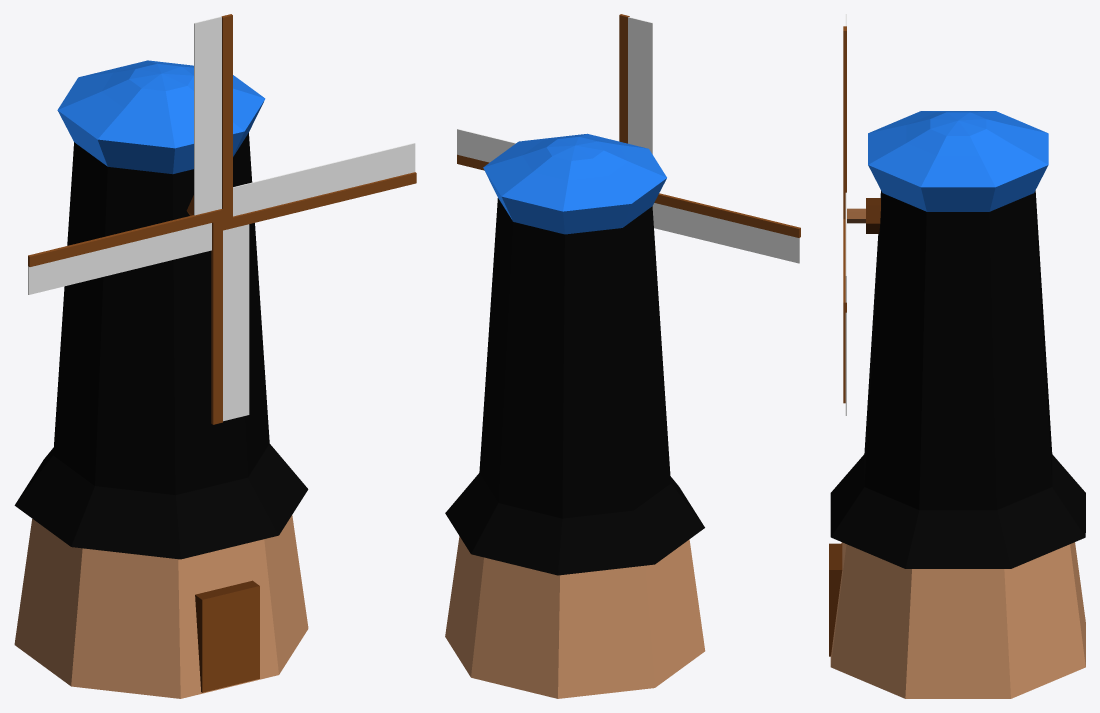
Rendered from Farm02.fbx.
3 views of the same model, side by side, from view 1: azimuth 30°, elevation 25°; view 2: azimuth 150°, elevation 25°; view 3: azimuth 270°, elevation 25° (orthographic). The views are drawn at different scales.
Parts seen in each view (by area): view 1: Base, Animated; view 2: Base, Animated; view 3: Base, Animated.
Boxes of the visible parts, box(x1,y1,x2,y2) form: Base: box(14, 60, 308, 698); Animated: box(28, 14, 416, 424); Base: box(445, 133, 705, 698); Animated: box(457, 14, 800, 263); Base: box(829, 111, 1085, 698); Animated: box(843, 14, 846, 415).
Size of the model in its own units: 279 by 458 by 172.
Materials: 1 (1 with a texture image).
